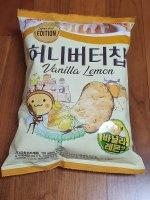snack: (0, 7, 146, 178)
